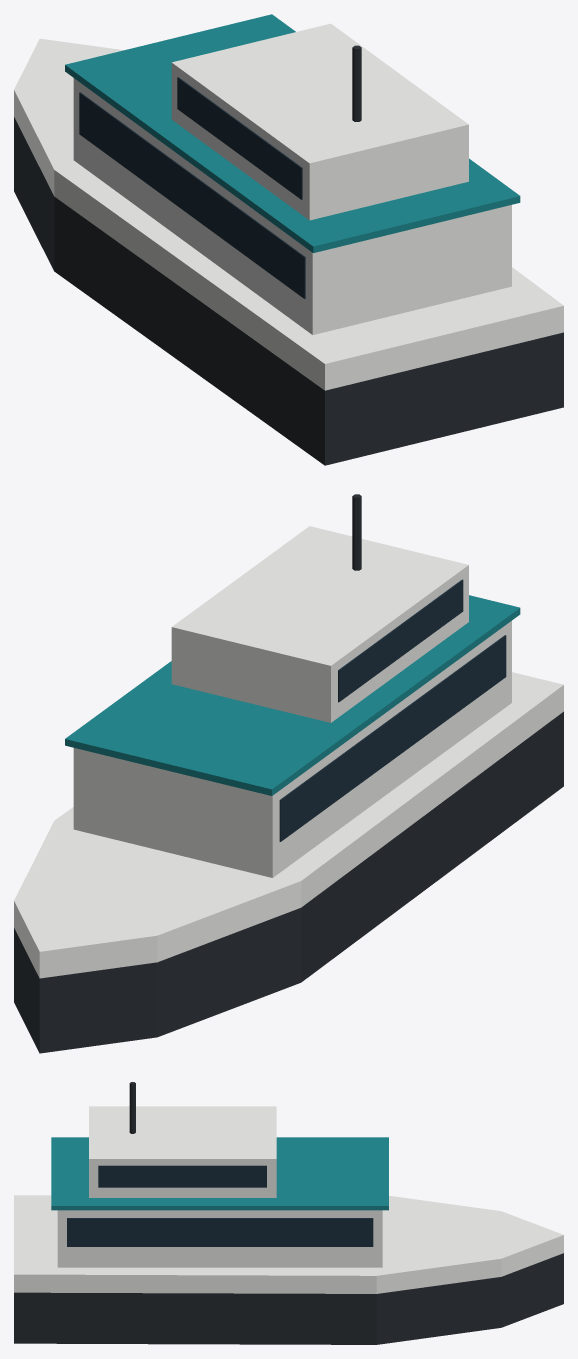
File: boat.glb
The picture shows the model from 3 angles, top to bottom: view 1: azimuth 30°, elevation 25°; view 2: azimuth 150°, elevation 25°; view 3: azimuth 270°, elevation 25°; orthographic projection. The views are drawn at different scales.
Parts seen in each view (by area): view 1: CLBoat; view 2: CLBoat; view 3: CLBoat.
Part boxes in pixels (left/top/right/bottom): CLBoat: left=14, top=14, right=563, bottom=465; CLBoat: left=14, top=494, right=563, bottom=1053; CLBoat: left=14, top=1082, right=563, bottom=1344.
Bounding box in the file's own units: 3.1 × 3.9 × 8.8.
